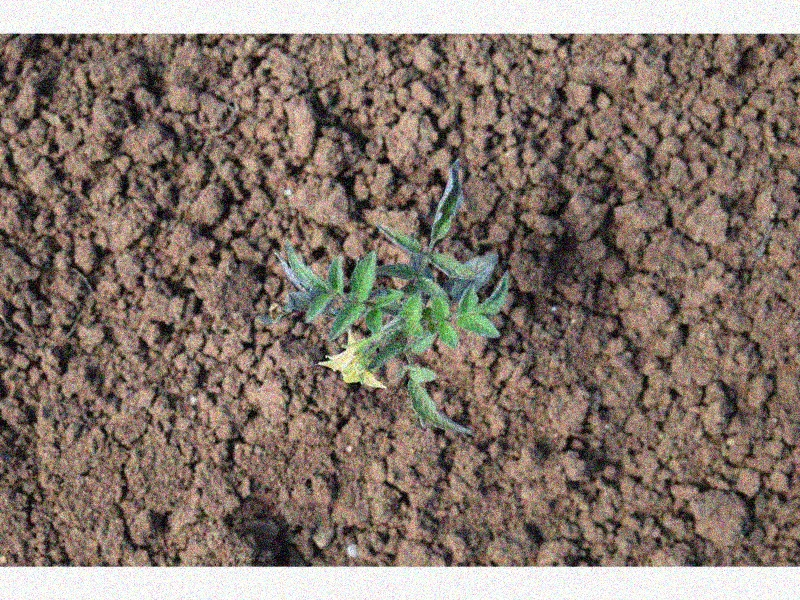tomato: (272, 158, 509, 426)
